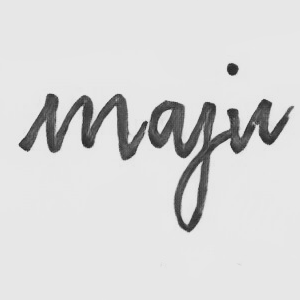a: (145, 99, 188, 153)
j: (171, 99, 220, 235)
m: (42, 89, 131, 162)
u: (225, 96, 274, 155)
